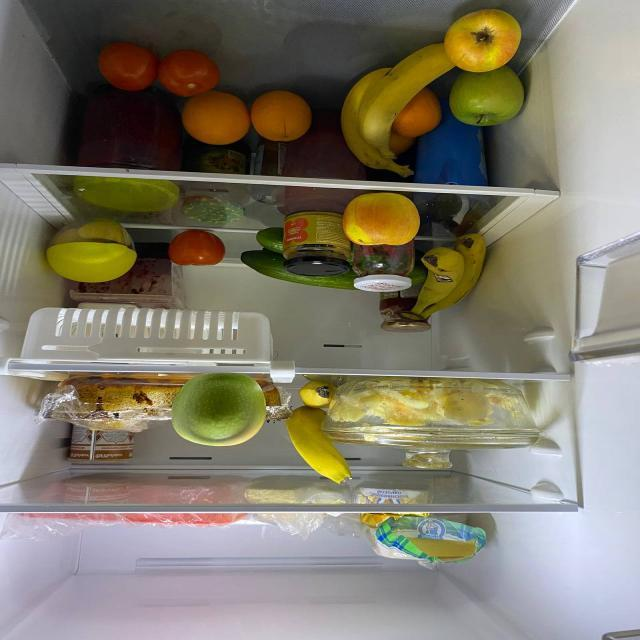Apple: (169, 377, 267, 446), (444, 9, 522, 69), (455, 69, 525, 128), (345, 191, 419, 246)
Banana: (332, 50, 454, 173), (413, 233, 499, 320), (291, 409, 341, 483), (300, 380, 334, 409)
Cucumber: (234, 254, 366, 289), (248, 226, 292, 258)
Orange: (180, 91, 248, 149), (245, 89, 308, 146), (400, 91, 444, 135), (389, 134, 411, 154)
Tomato: (95, 46, 156, 91), (153, 58, 219, 97), (168, 230, 225, 270)
